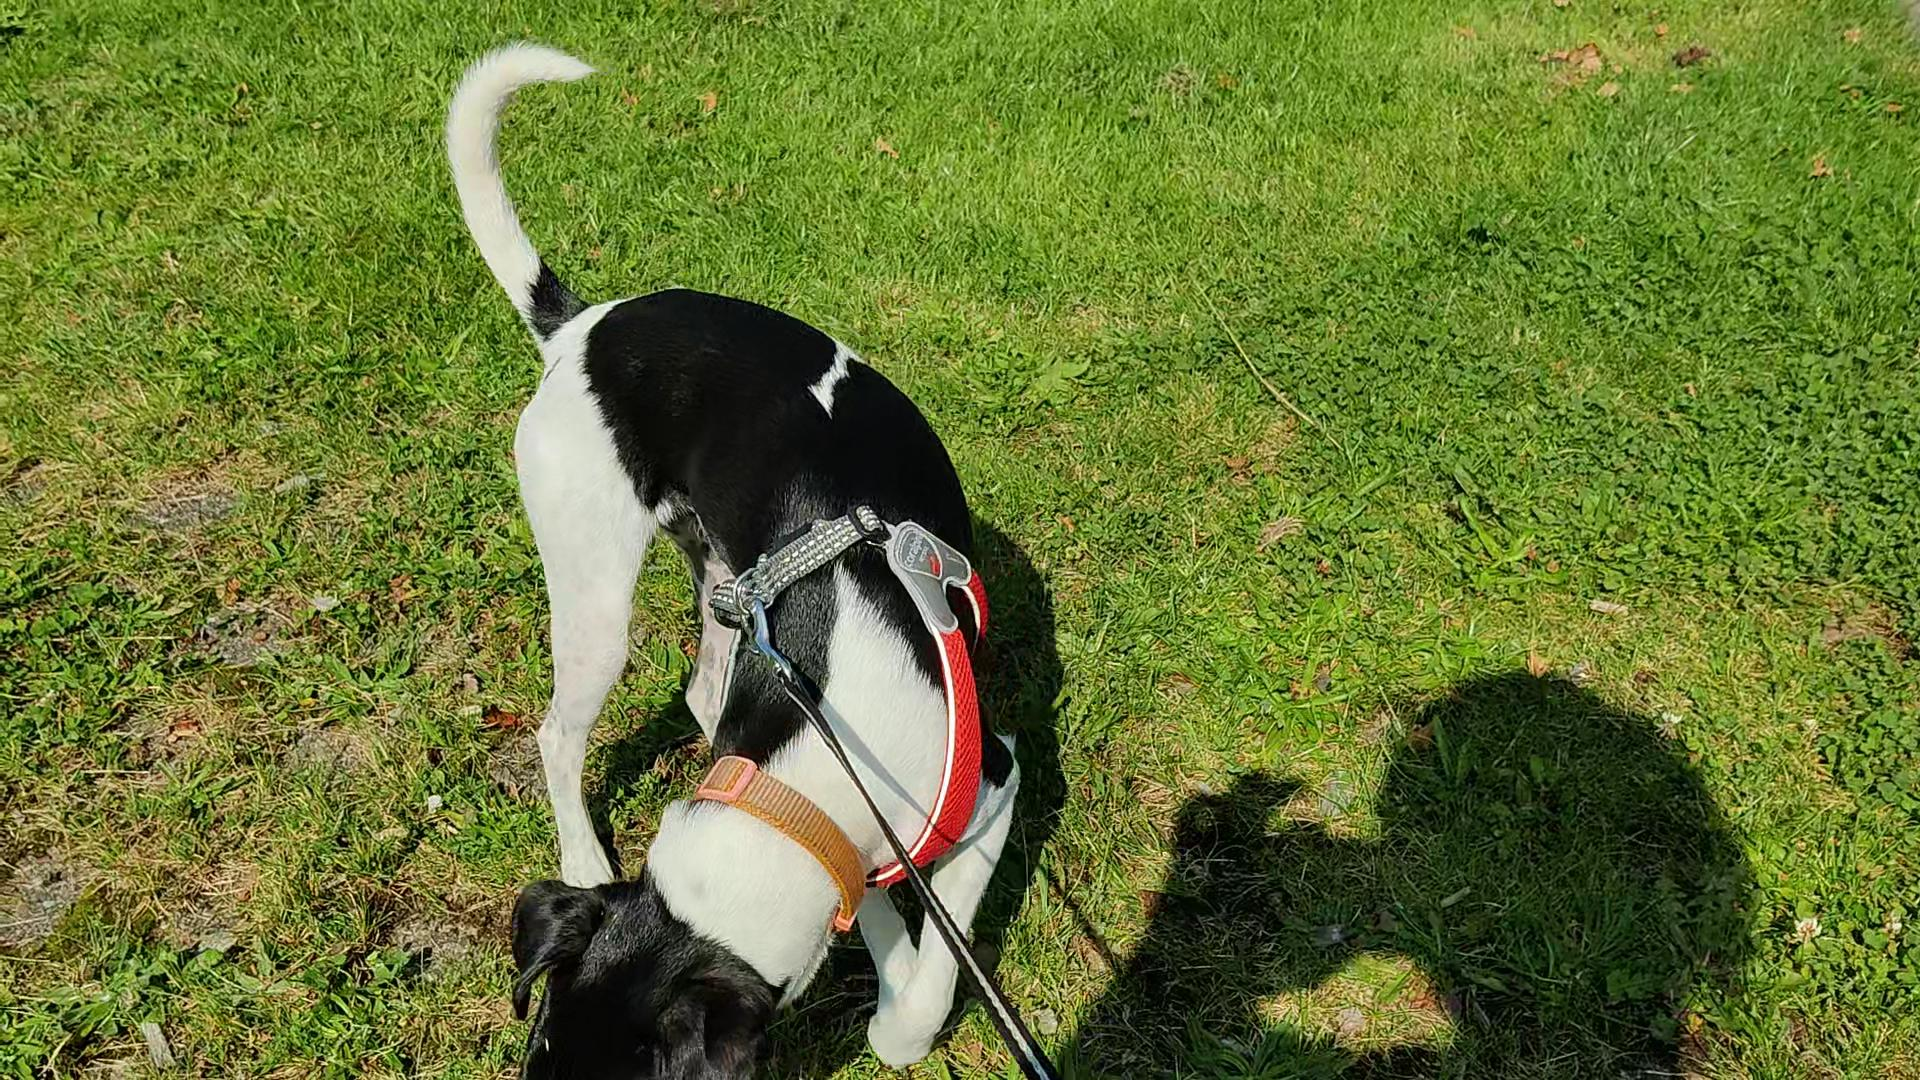Dog: (427, 28, 1033, 1079)
